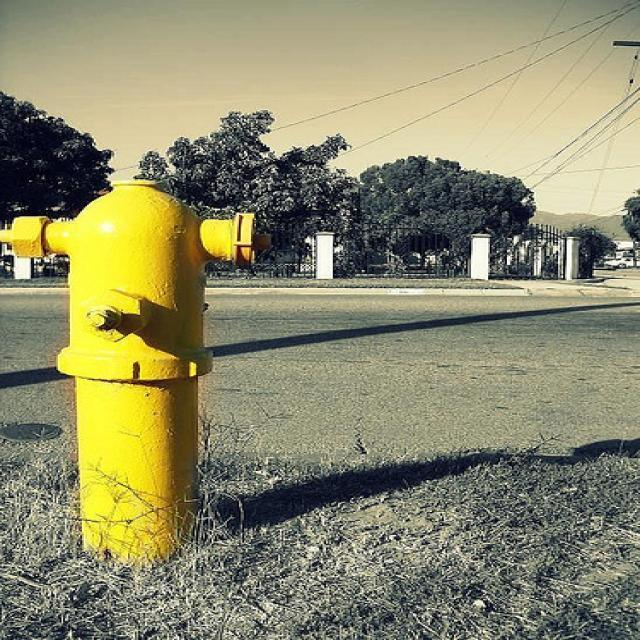fire_hydrant: (2, 165, 262, 558)
